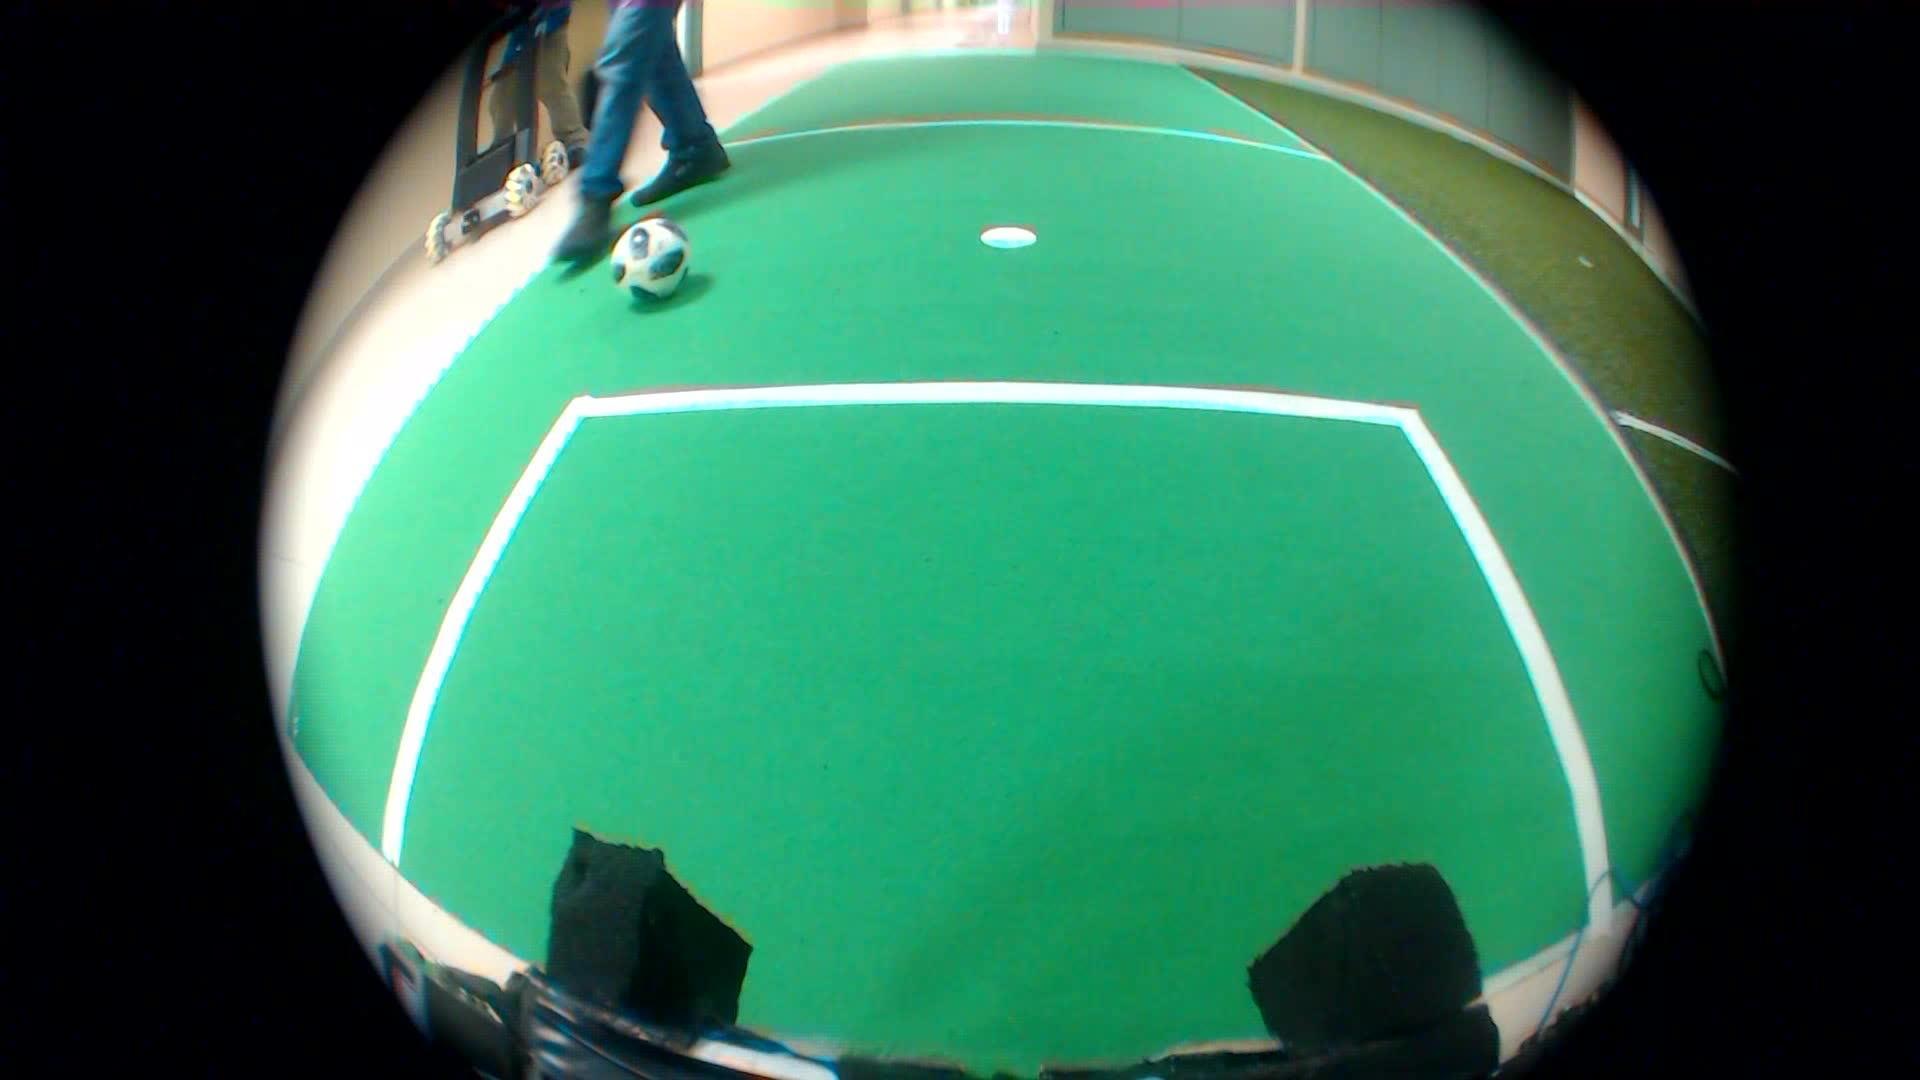ball: (605, 210, 702, 307)
